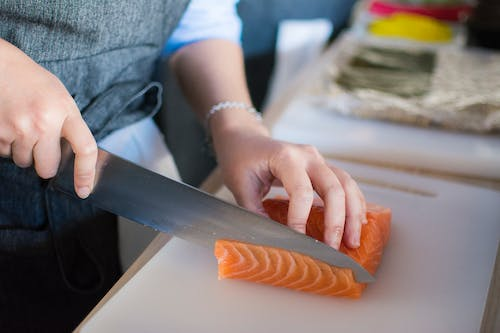knife: (43, 136, 381, 288)
